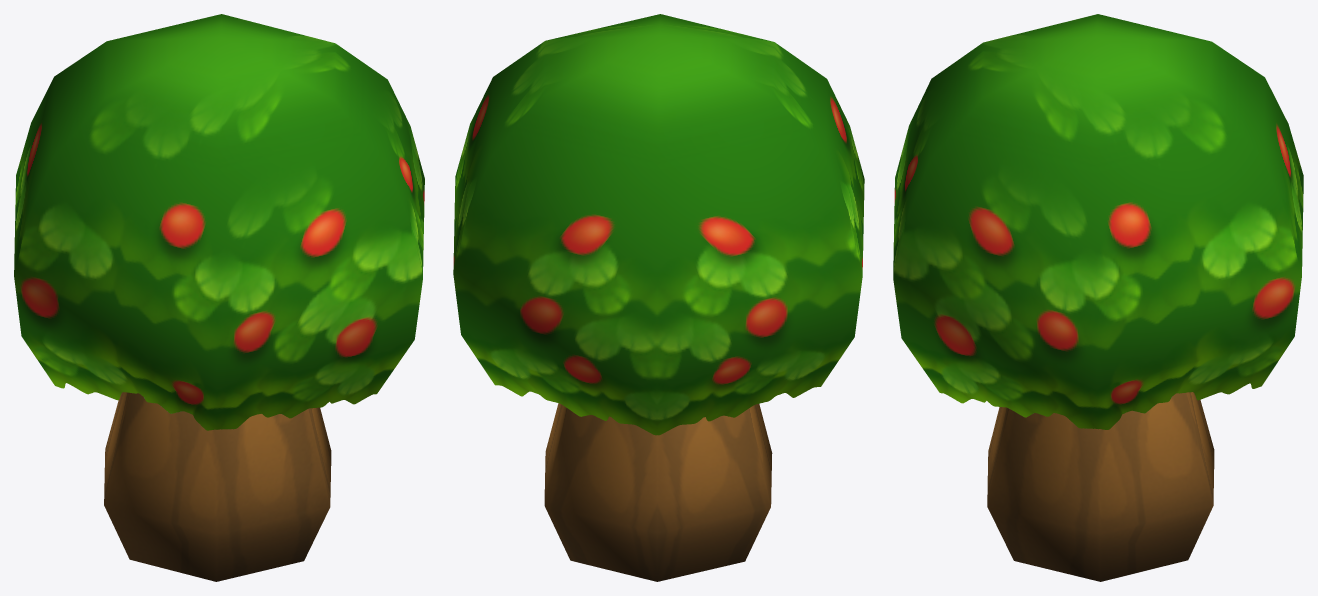
The model's file is Shrub_07.FBX.
The picture shows the model from 3 angles, left to right: view 1: azimuth 30°, elevation 25°; view 2: azimuth 150°, elevation 25°; view 3: azimuth 270°, elevation 25°; orthographic projection.
Visible parts, largest first — view 1: Shrub_07; view 2: Shrub_07; view 3: Shrub_07.
Part boxes in pixels (left/top/right/bottom): Shrub_07: left=14, top=14, right=424, bottom=581; Shrub_07: left=453, top=14, right=864, bottom=581; Shrub_07: left=893, top=14, right=1303, bottom=581.
Bounding box in the file's own units: 1.22 × 1.44 × 1.06.
